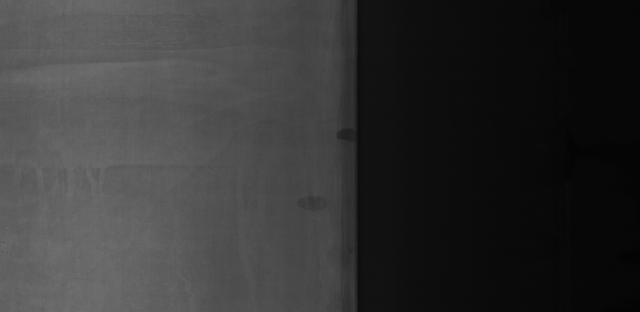oil_spot: (293, 186, 329, 219), (332, 119, 356, 146)
